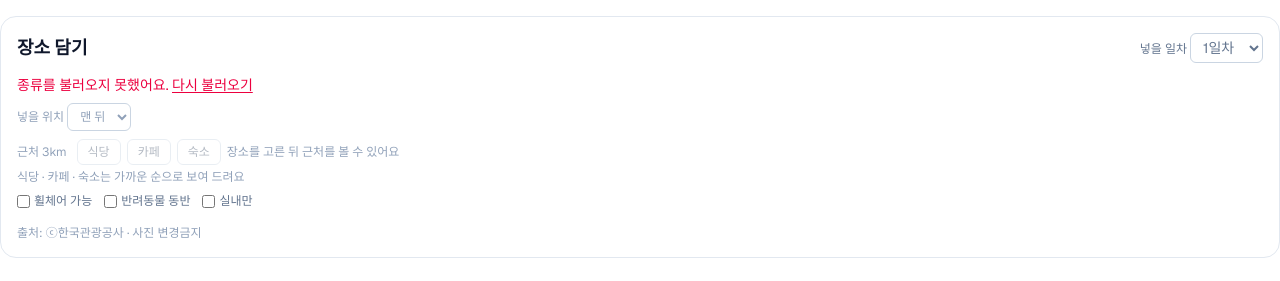
Scenario: 🔴 기획 화면 — 못 받으면 다시 불러오기를 준다
The width and height of the screenshot is (1280, 281).
Step 1. Click the button "다시 불러오기" → [212, 85], box [172,75,253,95]
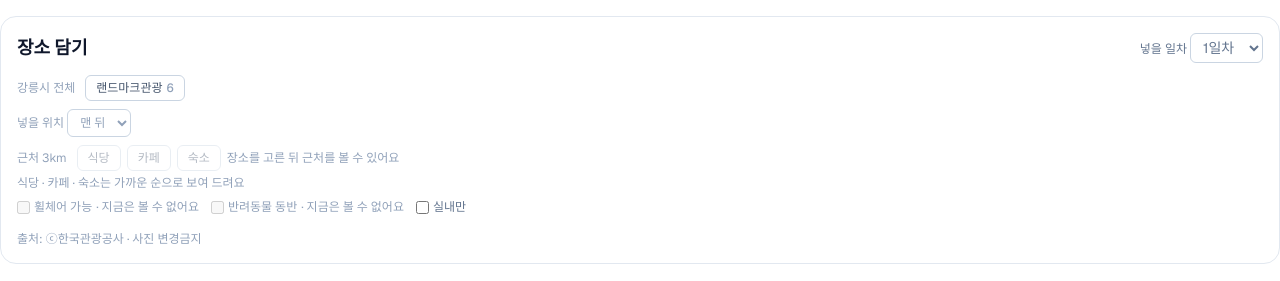
Result: the text "랜드마크관광" is shown at [85,75,185,101]
Result: the text "종류를 불러오지 못했어요." is gone
